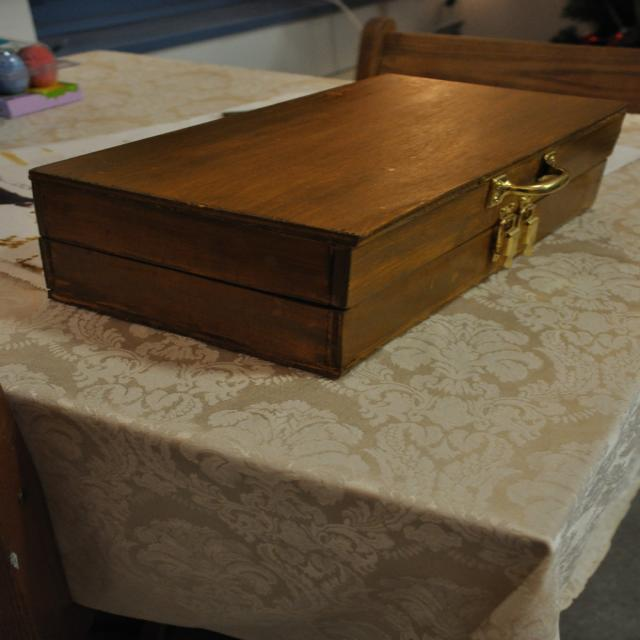Box: (29, 72, 632, 380)
